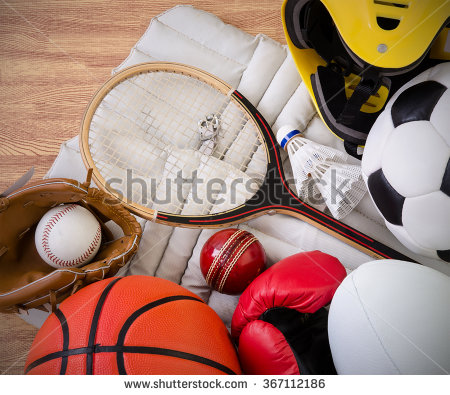red ball: (199, 227, 270, 297)
